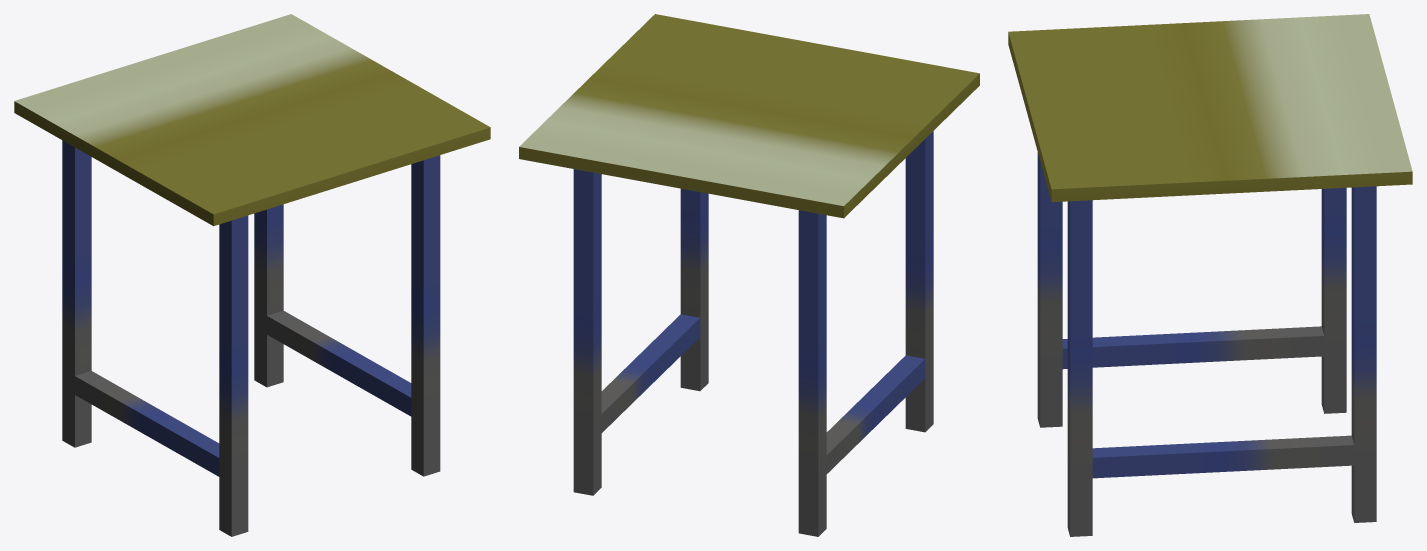
File: Garage_Chair.fbx
3 renders of one model, left to right at view 1: azimuth 30°, elevation 25°; view 2: azimuth 150°, elevation 25°; view 3: azimuth 270°, elevation 25°, orthographic. The views are drawn at different scales.
Visible parts, largest first — view 1: Garage_Chair; view 2: Garage_Chair; view 3: Garage_Chair.
Boxes of the visible parts, x1,y1,x2,y2 form: Garage_Chair: (14,14,490,536); Garage_Chair: (519,14,979,536); Garage_Chair: (1008,14,1412,536).
Size of the model in its own units: 65.93 by 64.84 by 64.25.
